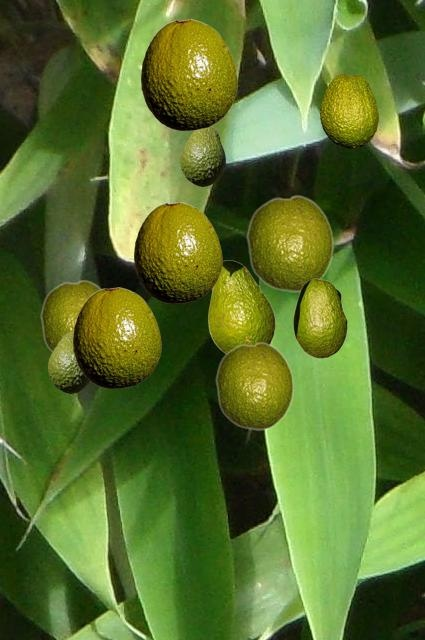avocado: (141, 19, 236, 129), (134, 202, 221, 302), (73, 287, 160, 387), (246, 194, 333, 292), (215, 341, 293, 430), (208, 260, 274, 353), (40, 279, 100, 352), (320, 73, 377, 147), (293, 278, 346, 357), (180, 126, 224, 185), (48, 332, 89, 392)
